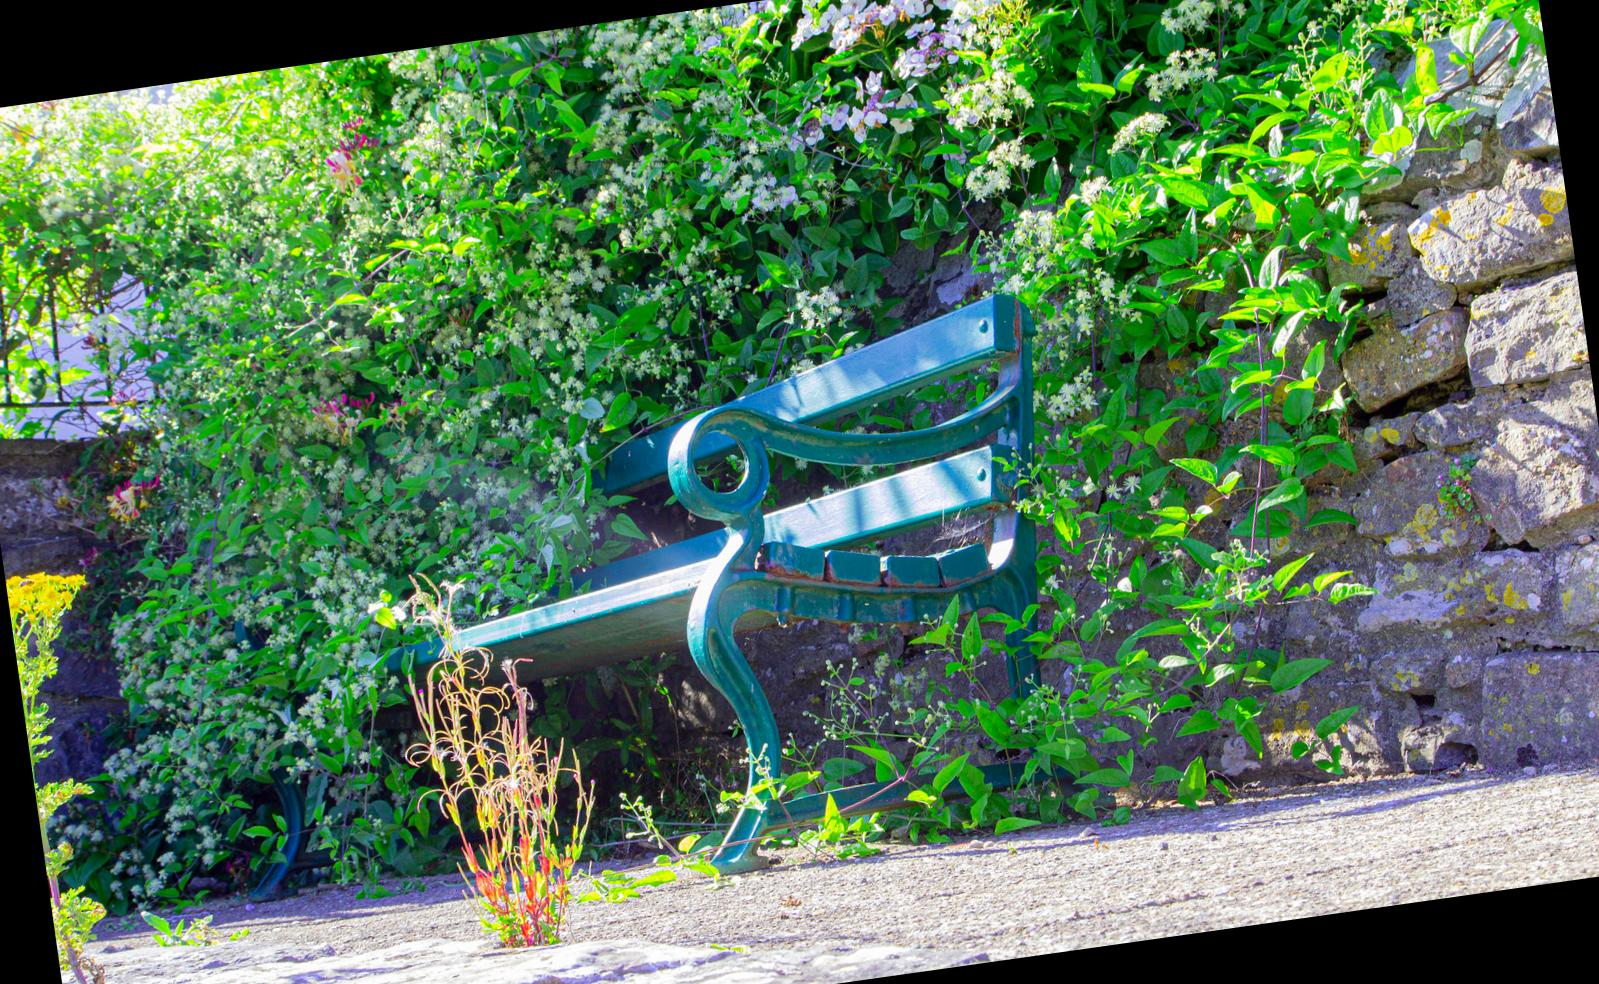overgrown grass: (112, 0, 1543, 812), (404, 579, 592, 946), (5, 572, 83, 767), (35, 781, 107, 984)
